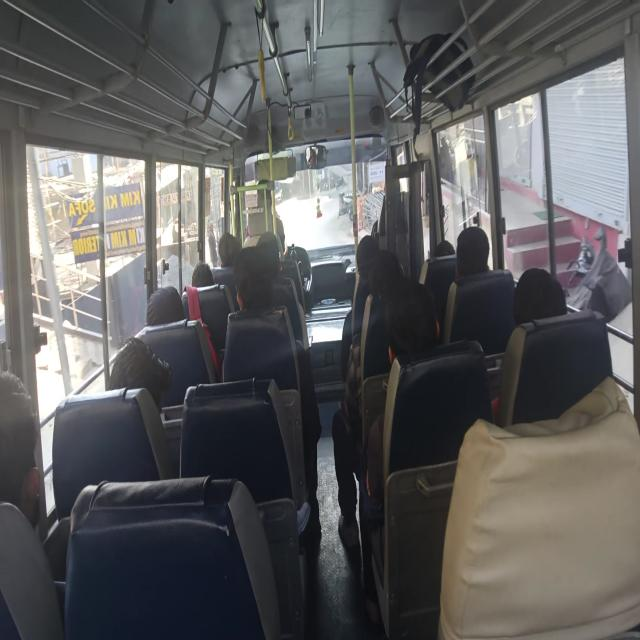person: (222, 245, 322, 541), (359, 276, 440, 629), (332, 246, 404, 550), (0, 368, 65, 638), (496, 266, 568, 426), (0, 368, 41, 528), (340, 234, 380, 377), (107, 335, 172, 411), (513, 266, 568, 326), (456, 225, 490, 277), (146, 285, 186, 326), (217, 232, 241, 268), (191, 261, 214, 287), (434, 240, 455, 256)
